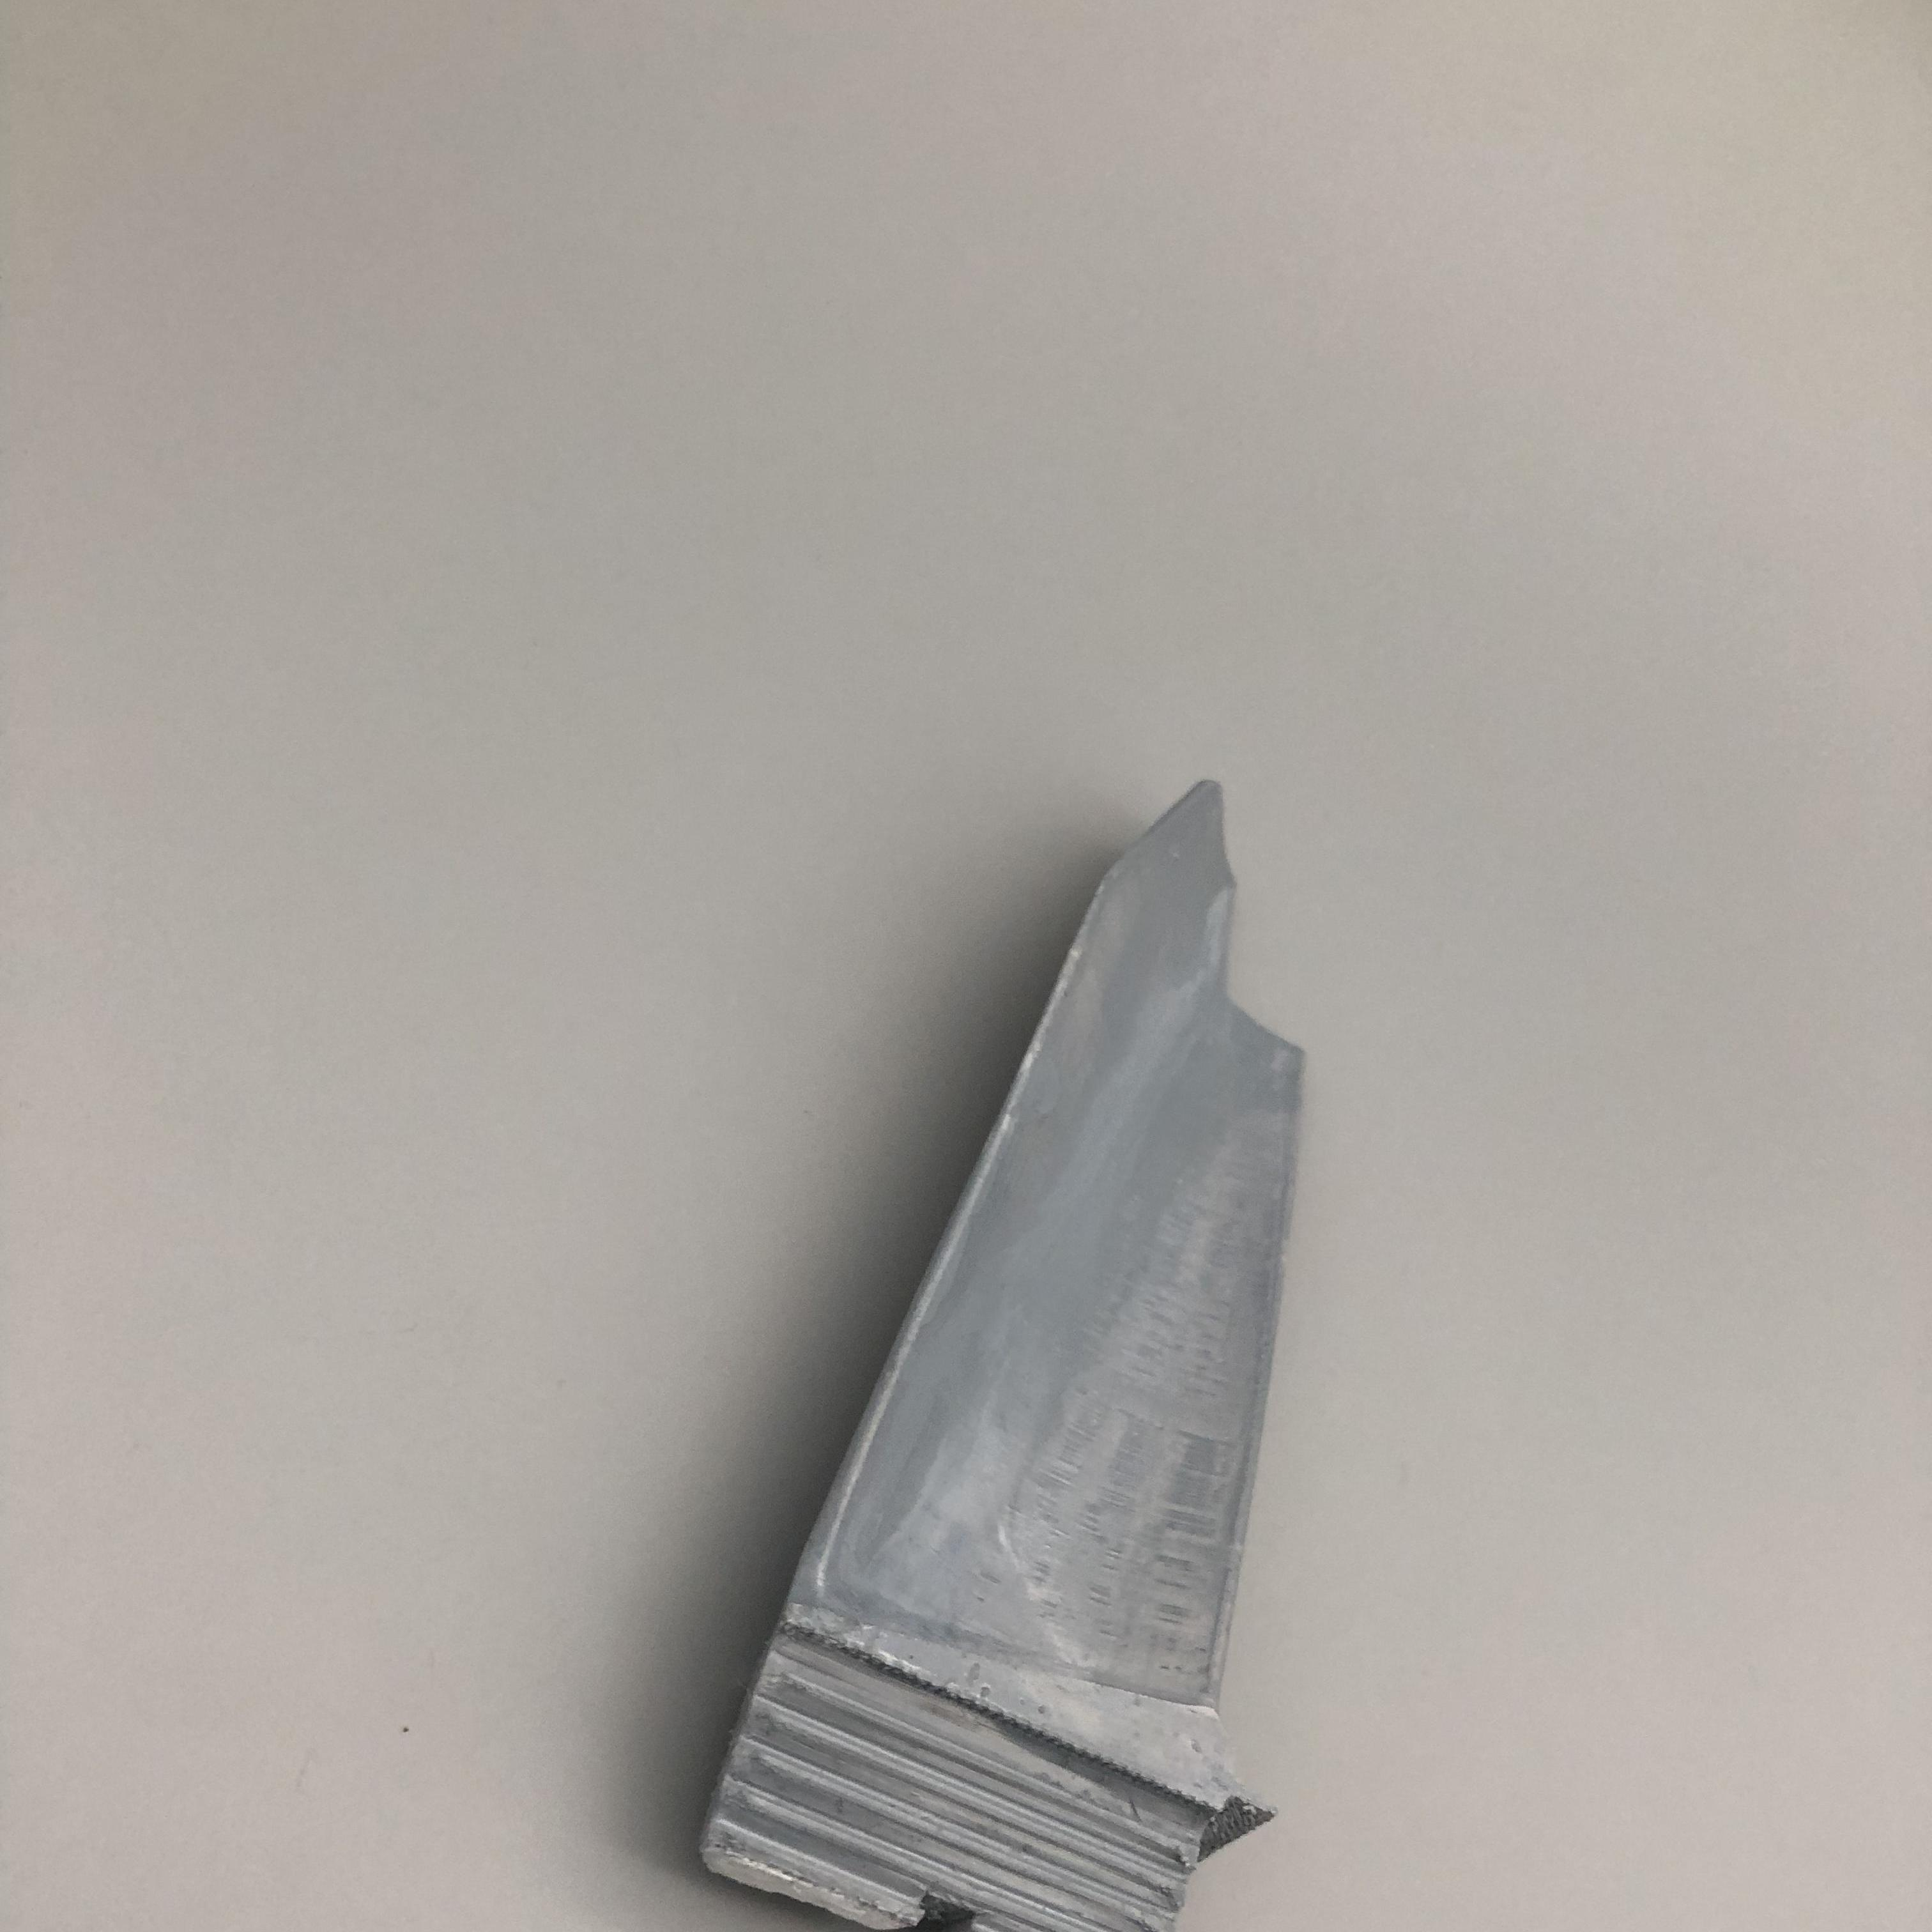fracture: (1203, 798, 1315, 1062)
